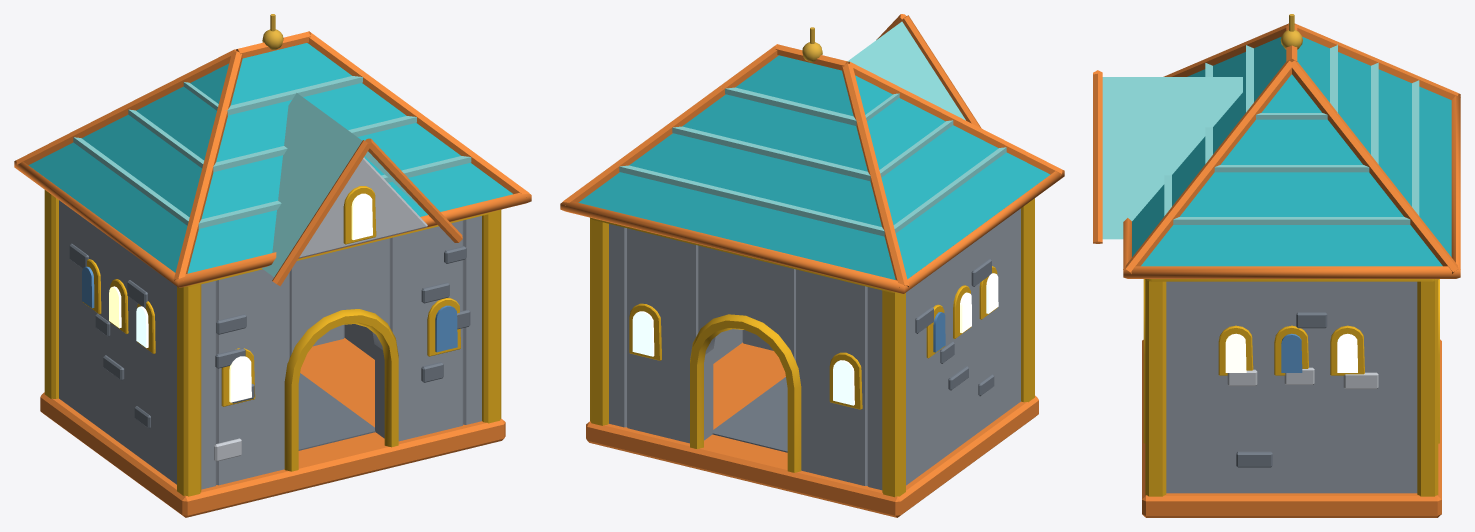
File: castelo_portao.glb
3 renders of one model, left to right at view 1: azimuth 30°, elevation 25°; view 2: azimuth 150°, elevation 25°; view 3: azimuth 270°, elevation 25°, orthographic. The views are drawn at different scales.
Parts seen in each view (by area): view 1: castelo_portao; view 2: castelo_portao; view 3: castelo_portao.
Part boxes in pixels (x1,y1,x2,y2): castelo_portao: (14, 14, 531, 517); castelo_portao: (560, 14, 1064, 517); castelo_portao: (1093, 14, 1460, 517).
Size of the model in its own units: 6.05 by 6.7 by 5.27.
Materials: 4 (1 with a texture image).
